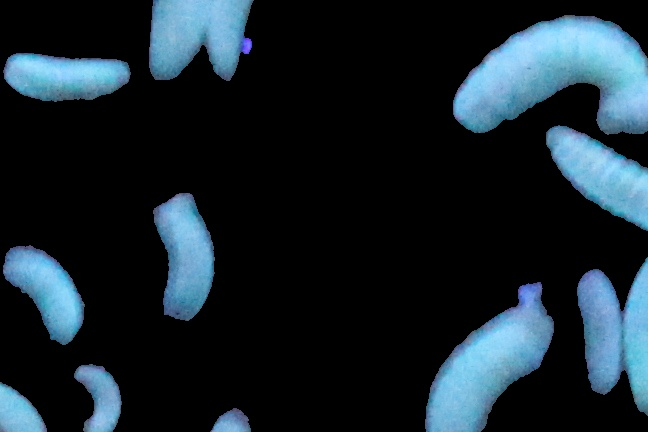larvae: (453, 7, 648, 134), (421, 286, 554, 432), (546, 129, 648, 232), (1, 249, 91, 347), (572, 264, 626, 401), (160, 193, 214, 326), (6, 51, 131, 101), (144, 1, 214, 80), (614, 250, 648, 408), (206, 1, 267, 86), (73, 366, 123, 432)
